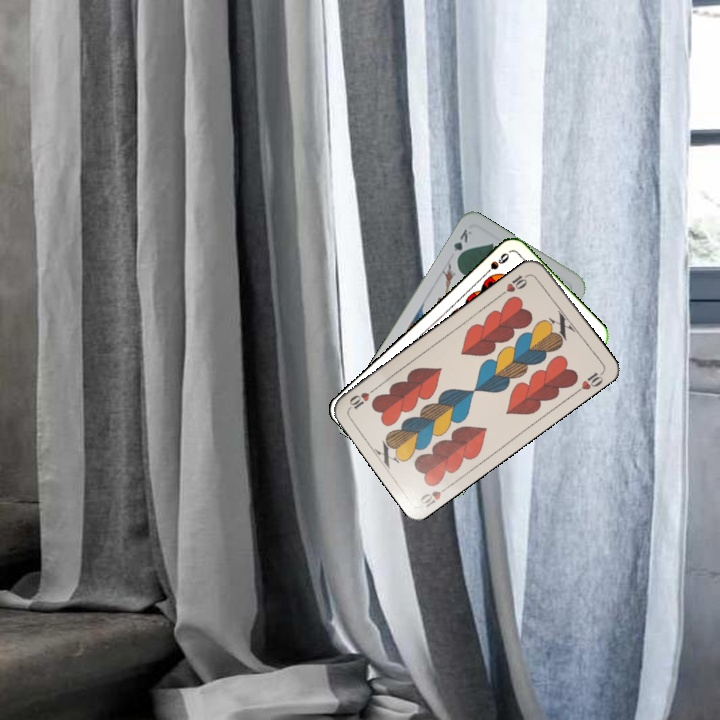GK: (449, 225, 474, 263)
H10: (415, 480, 453, 510), (497, 269, 533, 298)
S9: (479, 249, 512, 280)
